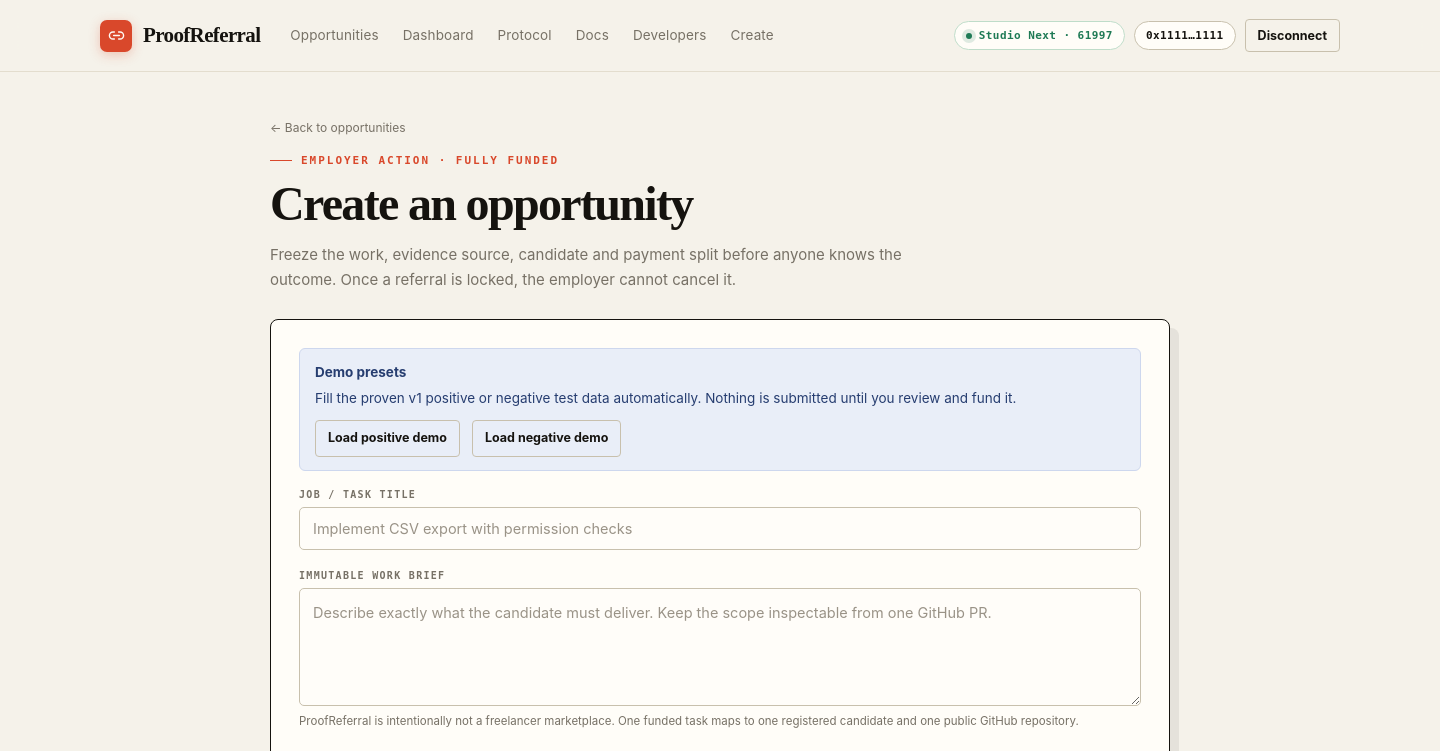
Test: NewOpportunity form validation › rejects a pasted GitHub URL instead of a repository name
expect the button "Disconnect" is shown: met, box [1245, 19, 1340, 52]
Click the button "Load positive demo".
click(387, 439)  # box [315, 420, 460, 457]
(page scrolled)
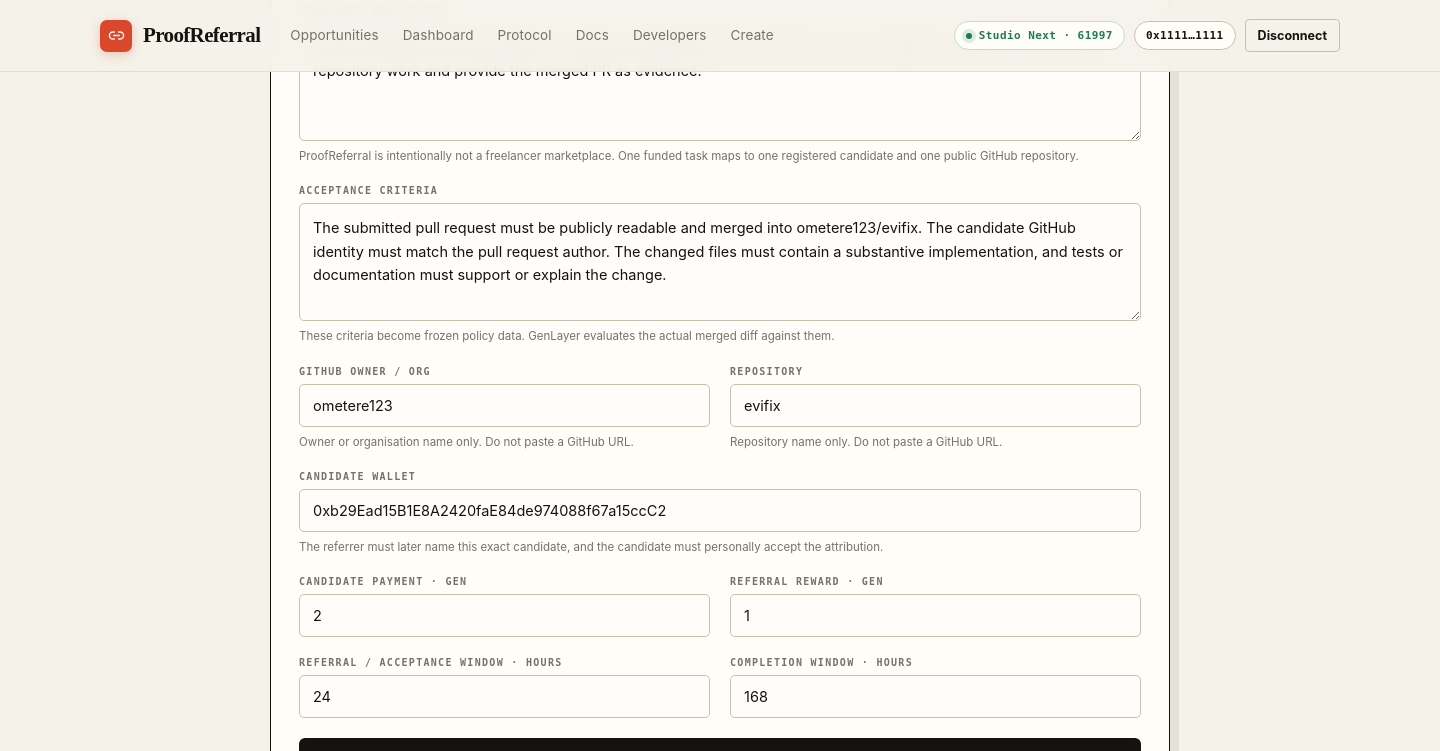
Replace the text in the 2nd field with "https://github.com/ometere123/evifix" at (936, 405), box [730, 384, 1141, 427]
(page scrolled)
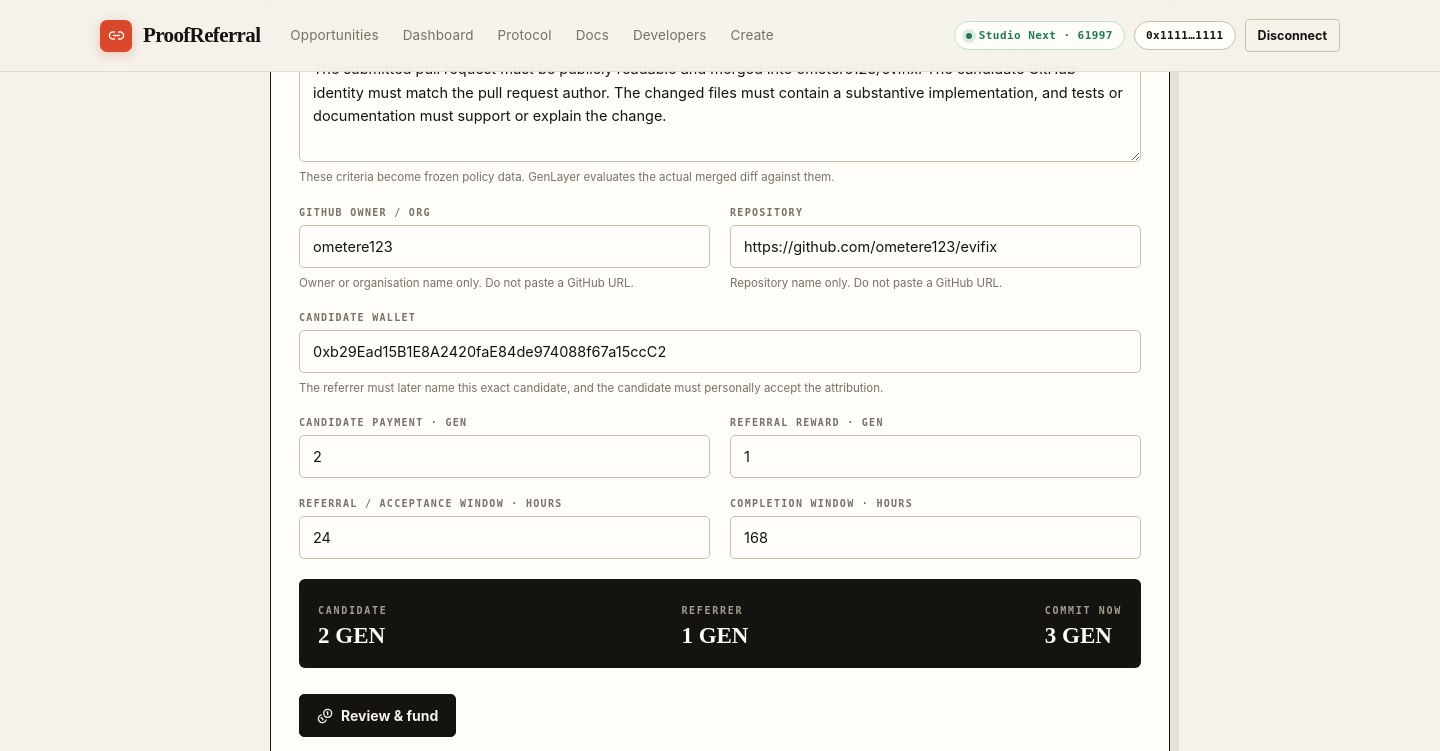
Click the button "Review & fund".
click(378, 716)  # box [299, 694, 456, 737]
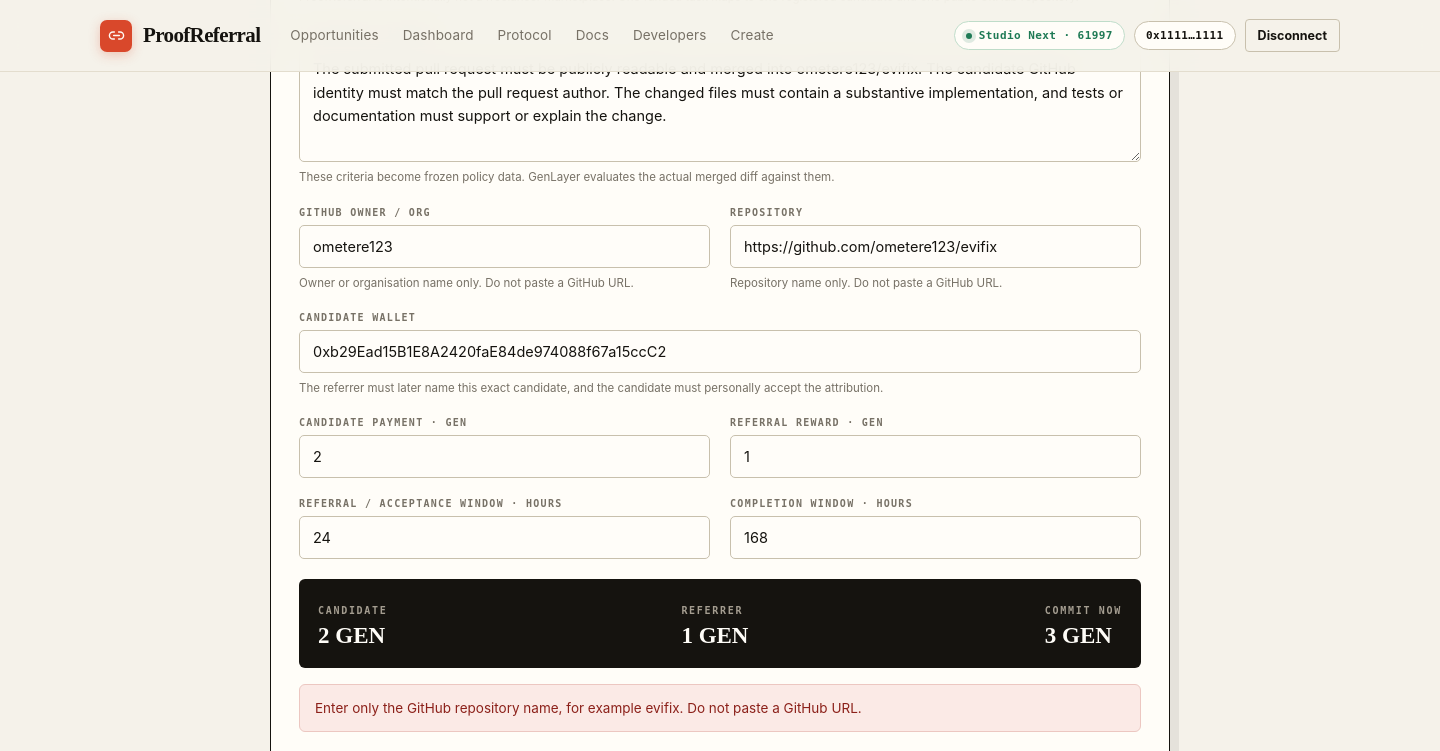
expect the text "Enter only the GitHub repository name, for example evifix. Do not paste a GitHub URL." is shown: met, box [315, 700, 862, 716]
